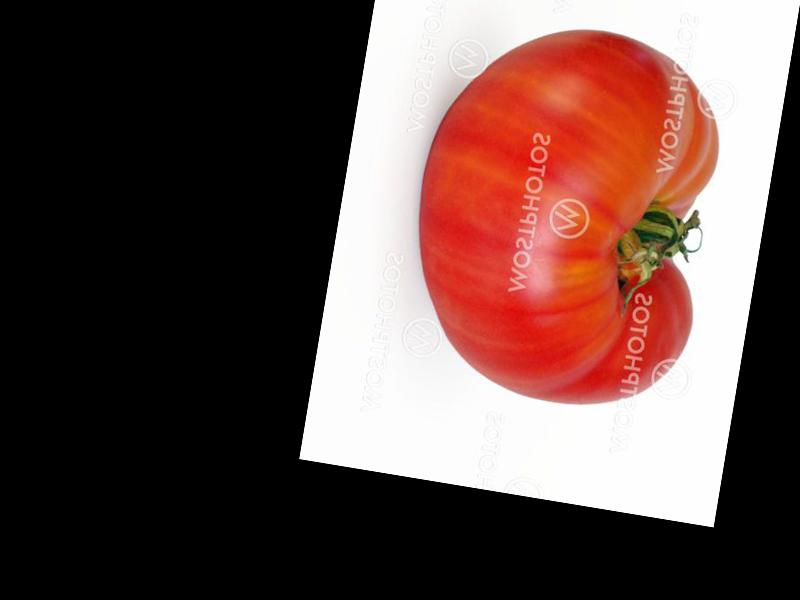Tomato: (392, 6, 737, 420)
